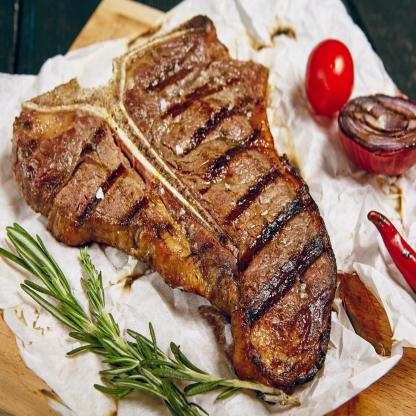Carne: (121, 44, 337, 372), (11, 82, 224, 301)
